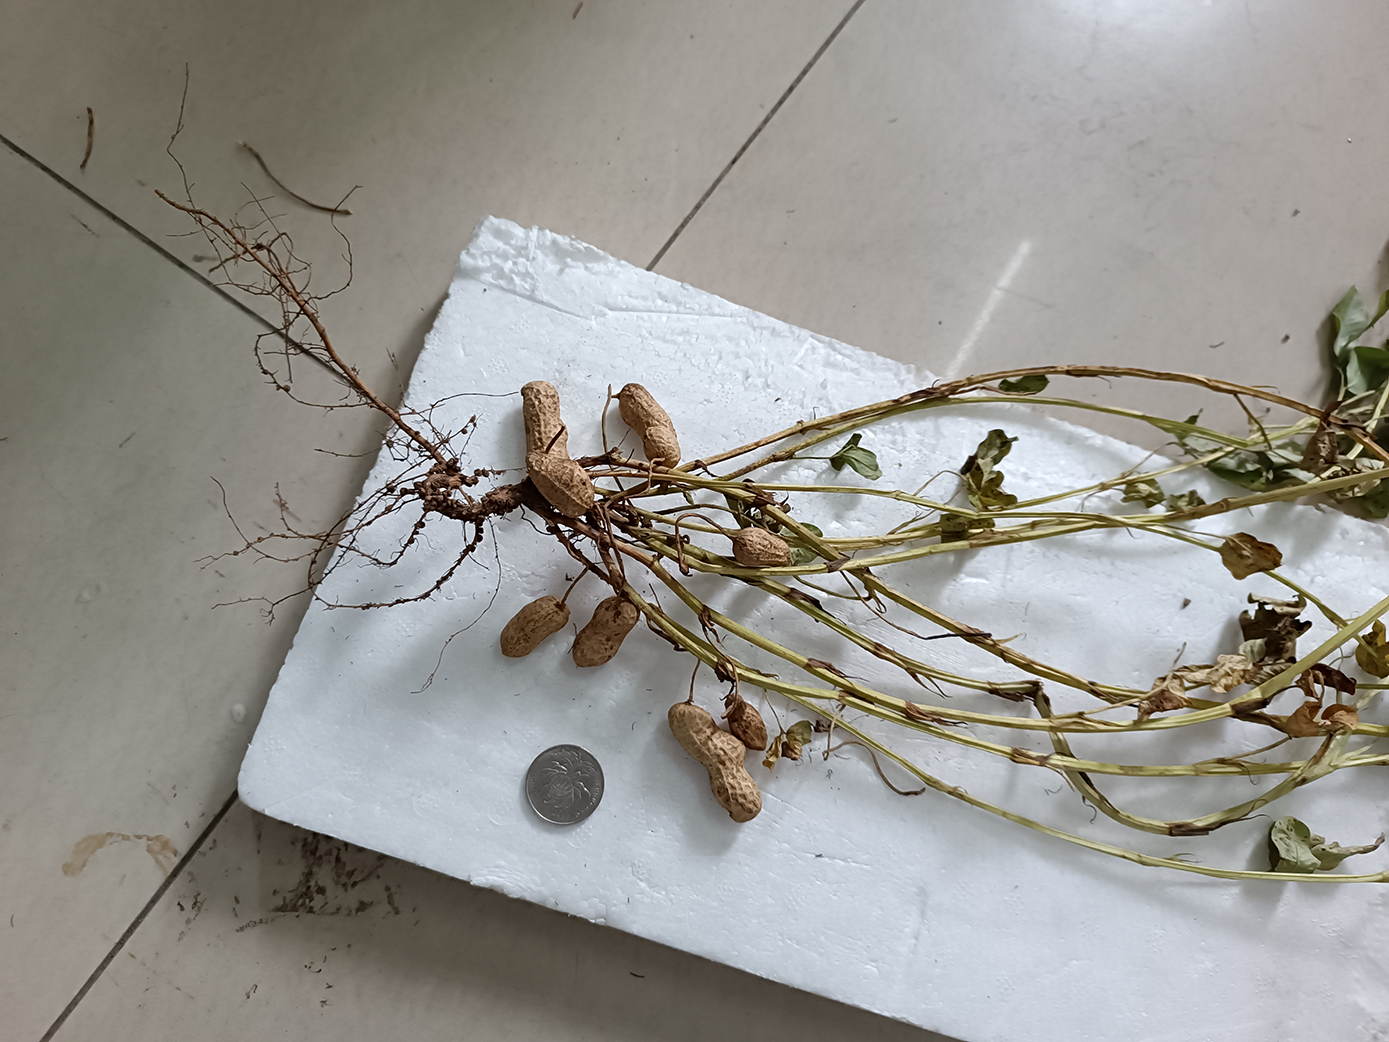h: (668, 703, 762, 821), (620, 382, 682, 467), (574, 597, 638, 667), (500, 595, 570, 659), (528, 455, 595, 512), (521, 379, 568, 455), (731, 526, 790, 566), (727, 696, 768, 748)
